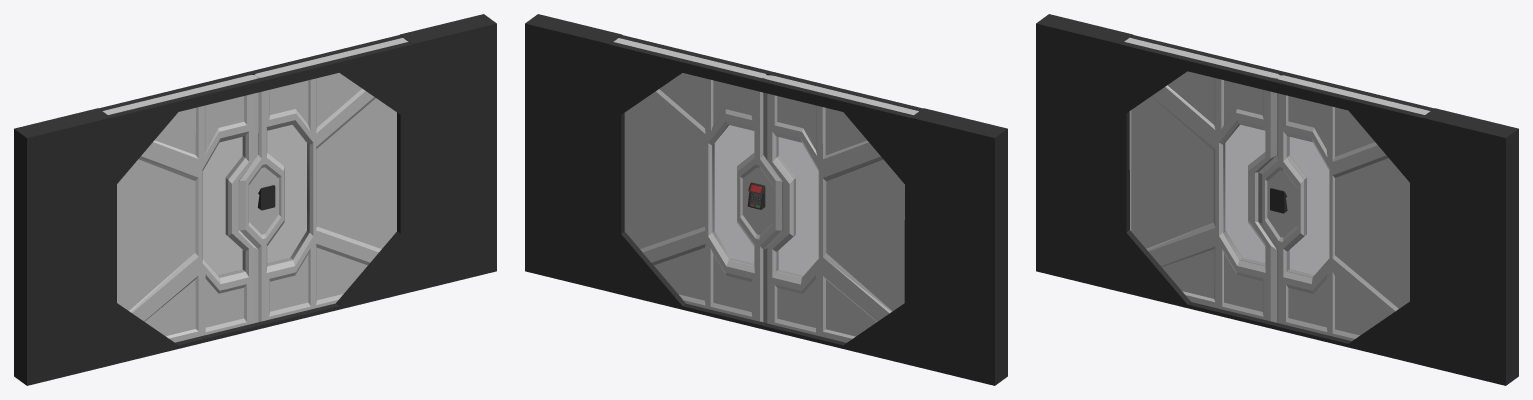
Rendered from Door D1 New.FBX.
3 views of the same model, side by side, from view 1: azimuth 30°, elevation 25°; view 2: azimuth 150°, elevation 25°; view 3: azimuth 330°, elevation 25° (orthographic).
Parts seen in each view (by area): view 1: Right Door, Box001, LeftDoor, Box008, Door Frame Front, RightWindow, LeftWindow, Door Frame Back; view 2: Right Door, LeftDoor, Box001, Box008, Door Frame Back, LeftWindow, RightWindow, Door Frame Front, BackControlPanel; view 3: LeftDoor, Right Door, Box008, Box001, Door Frame Front, RightWindow, LeftWindow, Door Frame Back.
Part boxes in pixels (x1,y1,x2,y2): Right Door: (239, 38, 408, 322); Box001: (14, 108, 111, 385); LeftDoor: (102, 75, 258, 342); Box008: (400, 14, 496, 291); Door Frame Front: (108, 42, 412, 365); RightWindow: (267, 124, 309, 265); LeftWindow: (203, 136, 245, 277); Door Frame Back: (99, 35, 402, 110); Right Door: (613, 38, 781, 321); LeftDoor: (763, 75, 918, 342); Box001: (911, 108, 1007, 385); Box008: (525, 14, 621, 290); Door Frame Back: (606, 42, 913, 365); LeftWindow: (776, 137, 818, 277); RightWindow: (712, 125, 753, 265); Door Frame Front: (619, 35, 922, 111); BackControlPanel: (747, 182, 765, 209); LeftDoor: (1124, 37, 1280, 322); Right Door: (1258, 75, 1430, 340); Box008: (1421, 108, 1518, 385); Box001: (1036, 14, 1132, 291); Door Frame Front: (1120, 42, 1424, 365); RightWindow: (1287, 136, 1328, 277); LeftWindow: (1223, 124, 1264, 265); Door Frame Back: (1130, 35, 1433, 110).
Size of the model in its own units: 138 by 69.34 by 6.63.
